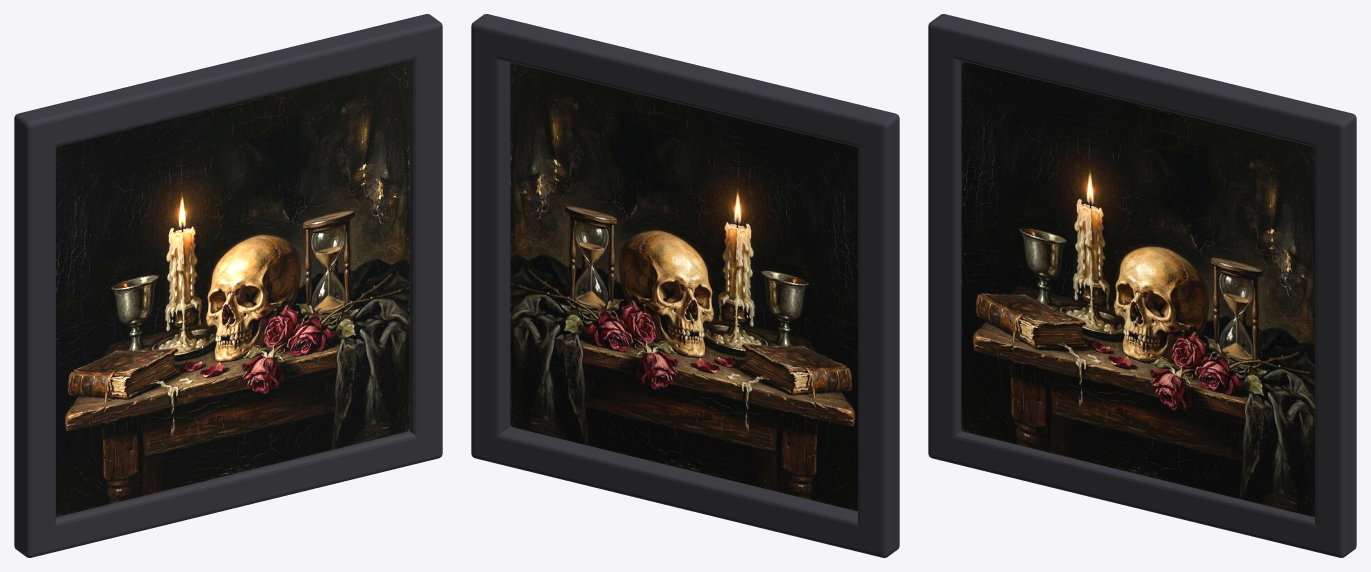
Rendered from art_skull_candles_still.glb.
3 views of the same model, side by side, from view 1: azimuth 30°, elevation 25°; view 2: azimuth 150°, elevation 25°; view 3: azimuth 330°, elevation 25° (orthographic).
Visible parts, largest first — view 1: GD_art_skull_candles_still__m0, GD_art_skull_candles_still__m1; view 2: GD_art_skull_candles_still__m0, GD_art_skull_candles_still__m1; view 3: GD_art_skull_candles_still__m0, GD_art_skull_candles_still__m1.
Part boxes in pixels (<box>): GD_art_skull_candles_still__m0: <box>56,61,409,517</box>; GD_art_skull_candles_still__m1: <box>14,14,442,557</box>; GD_art_skull_candles_still__m0: <box>510,62,857,511</box>; GD_art_skull_candles_still__m1: <box>471,14,899,557</box>; GD_art_skull_candles_still__m0: <box>961,61,1314,517</box>; GD_art_skull_candles_still__m1: <box>928,14,1356,557</box>.
Size of the model in its own units: 0.96 by 0.96 by 0.06.
2 materials, 1 textured.
